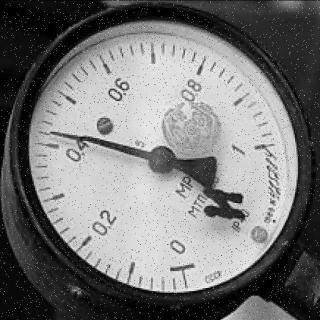gauge: (0, 0, 320, 320), (234, 130, 284, 162), (159, 258, 207, 286), (148, 144, 176, 178), (45, 126, 61, 140)
